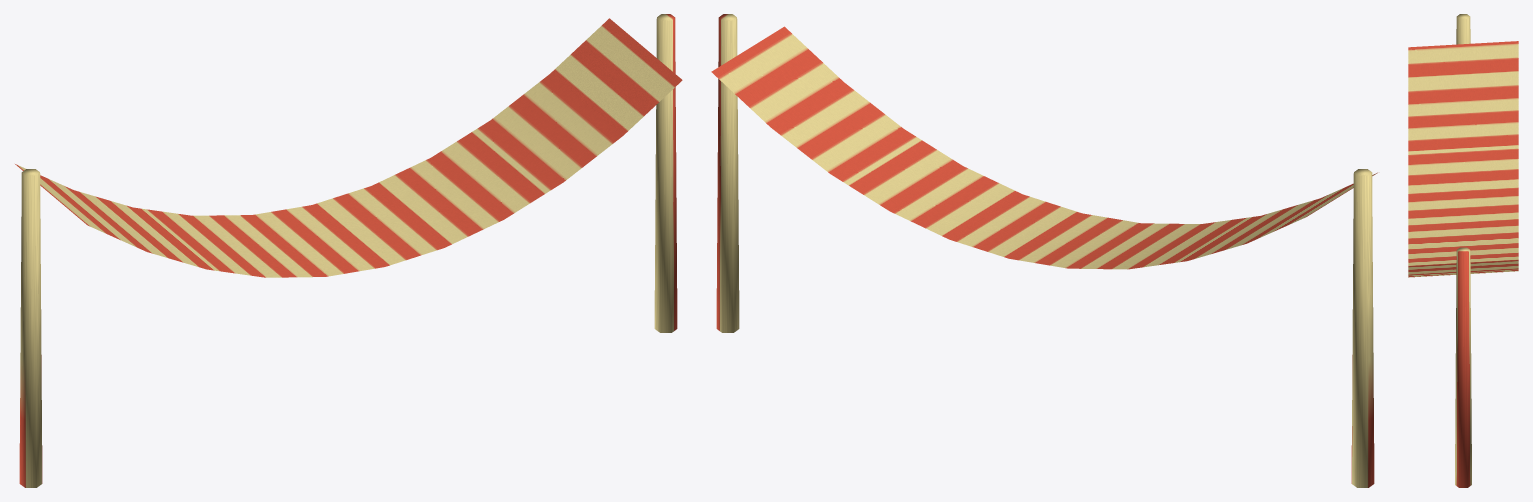
The model's file is hamaca.obj.
3 renders of one model, left to right at view 1: azimuth 30°, elevation 25°; view 2: azimuth 150°, elevation 25°; view 3: azimuth 270°, elevation 25°, orthographic. The views are drawn at different scales.
Parts seen in each view (by area): view 1: hamaca; view 2: hamaca; view 3: hamaca.
Part boxes in pixels (x1=…): hamaca: x1=15, y1=14, x2=682, y2=487; hamaca: x1=711, y1=14, x2=1377, y2=487; hamaca: x1=1408, y1=14, x2=1518, y2=487.
Size of the model in its own units: 3.29 by 1.5 by 0.64.
1 material, 1 textured.
